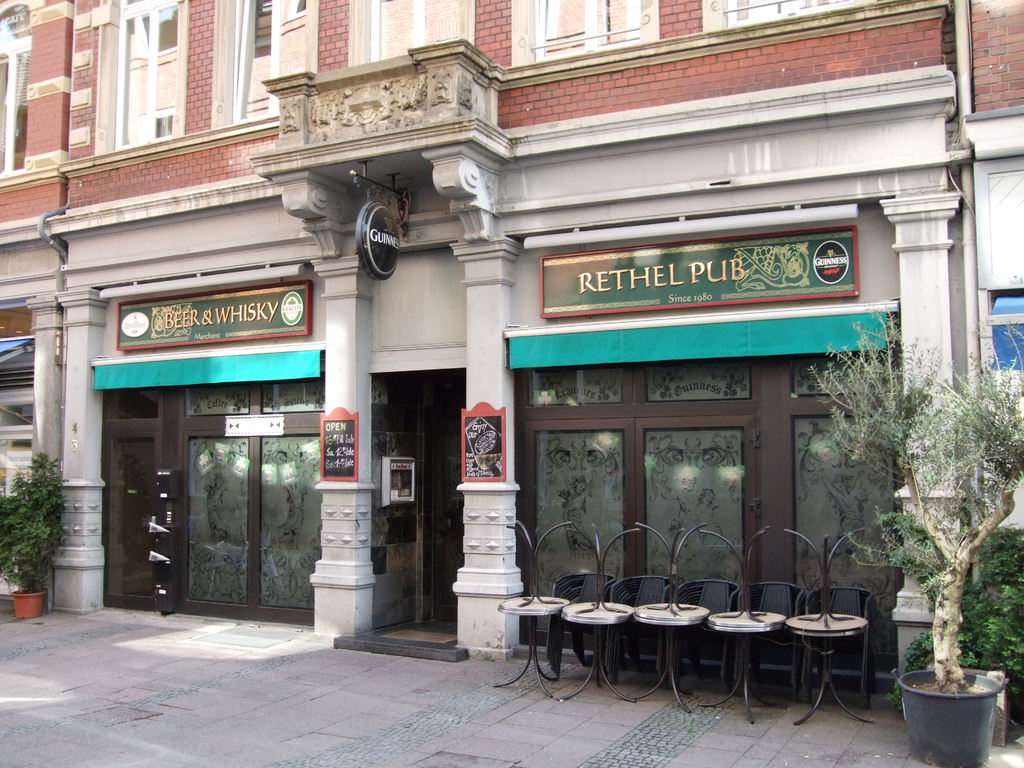Tree: (807, 309, 1023, 687)
